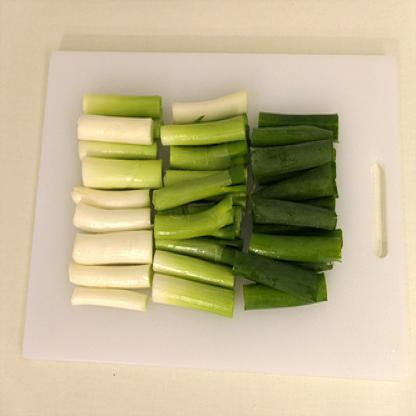green onion: (150, 244, 238, 320), (242, 254, 337, 317), (257, 170, 348, 230), (71, 226, 157, 272), (244, 230, 352, 262), (256, 120, 344, 155), (82, 158, 162, 194), (69, 258, 159, 290), (162, 202, 236, 240), (175, 94, 268, 124), (161, 234, 243, 268), (254, 149, 340, 180), (155, 168, 252, 194), (80, 113, 156, 146), (164, 144, 248, 172), (66, 290, 154, 316), (80, 92, 166, 118), (72, 208, 158, 232), (160, 125, 248, 146), (156, 180, 238, 191)
